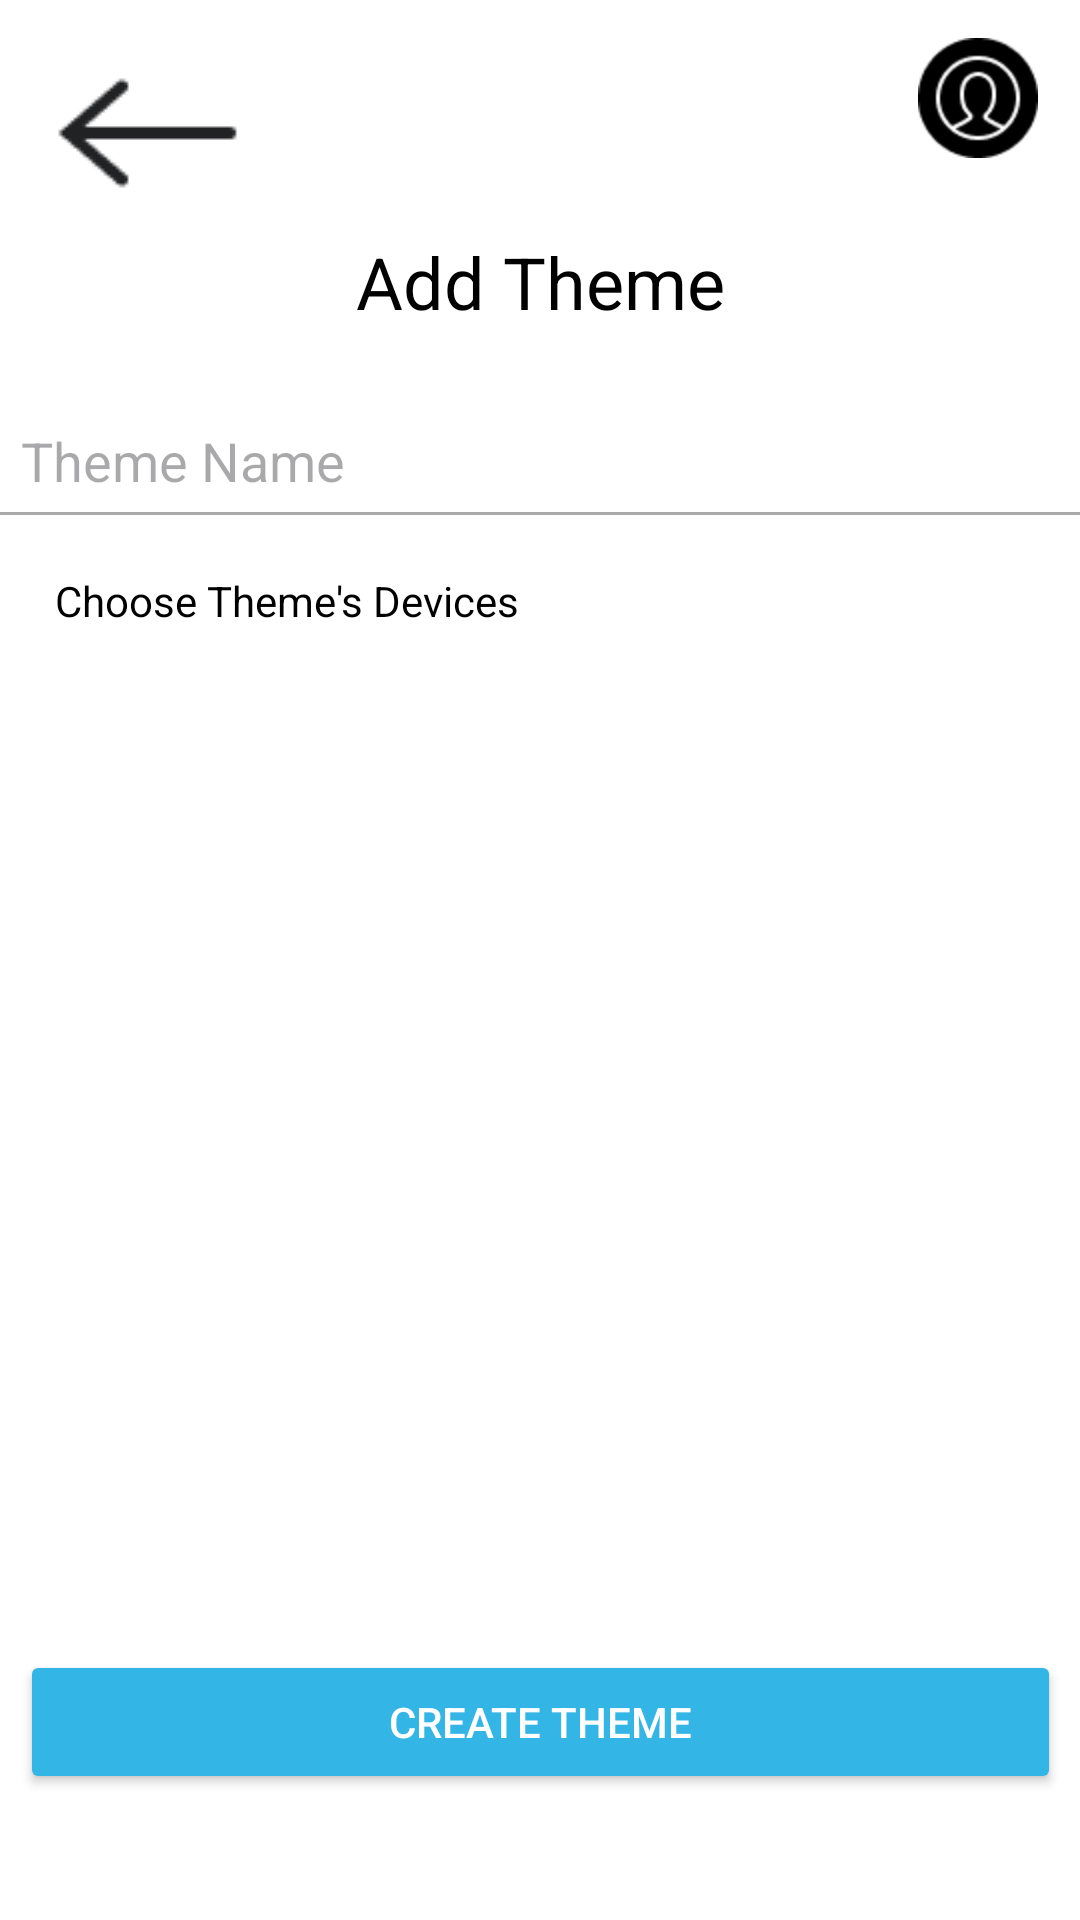

Named icons in this screenshot (1080px×1920px) and their centers, point (x, y):
Back: point (147, 133)
imgprofilepic: point (978, 98)
